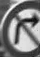Don't turn right: (4, 2, 39, 49)
